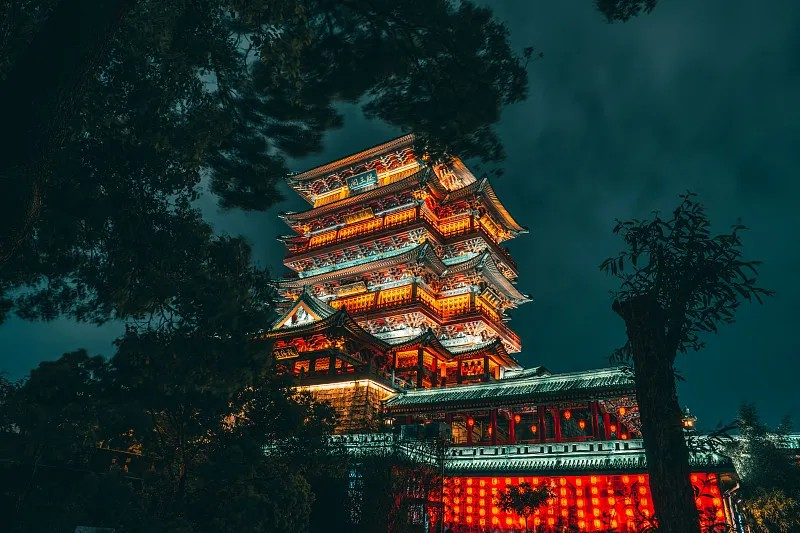Teng: (271, 134, 534, 422)
